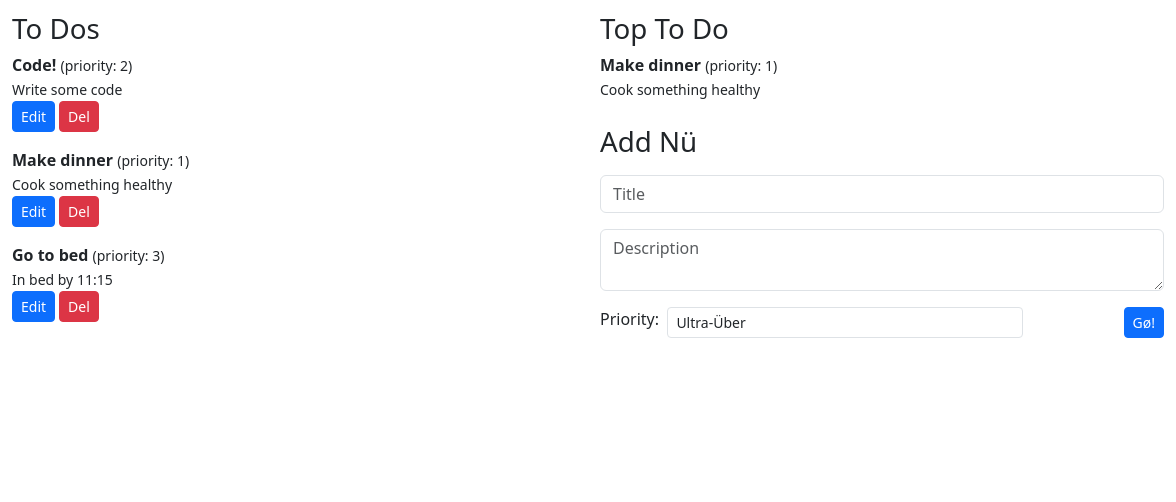
update a todo
Expected: the text "Code!" is shown, [12,54,56,76]
Expected: the text "Write some code" is shown, [12,80,122,99]
Click the button with class "EditableTodo-toggle" below "Write some code" at (34, 117), box [12,101,55,132]
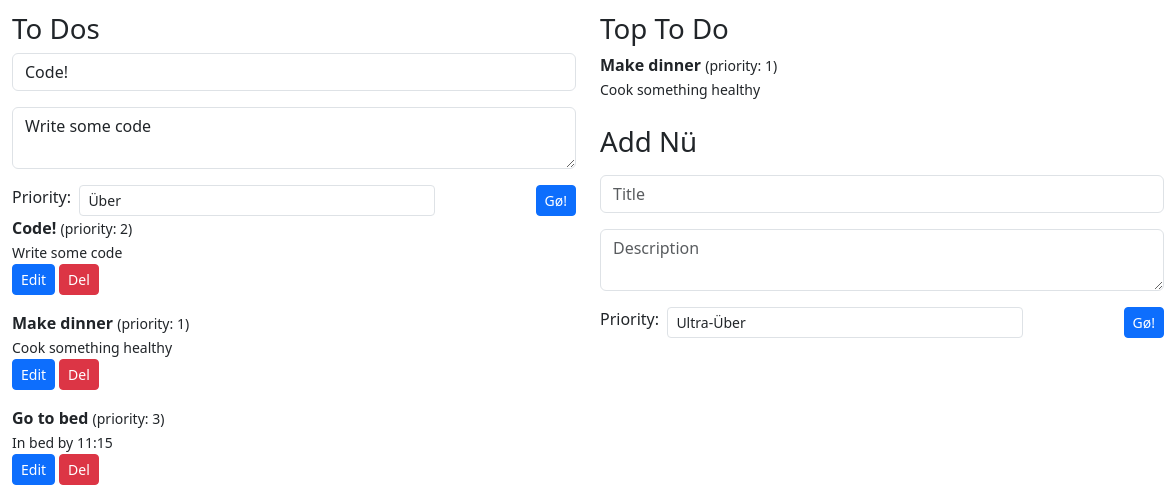
Replace the text in the field with id "newTodo-title" with "get ice cream" at (294, 72), box [12,53,576,91]
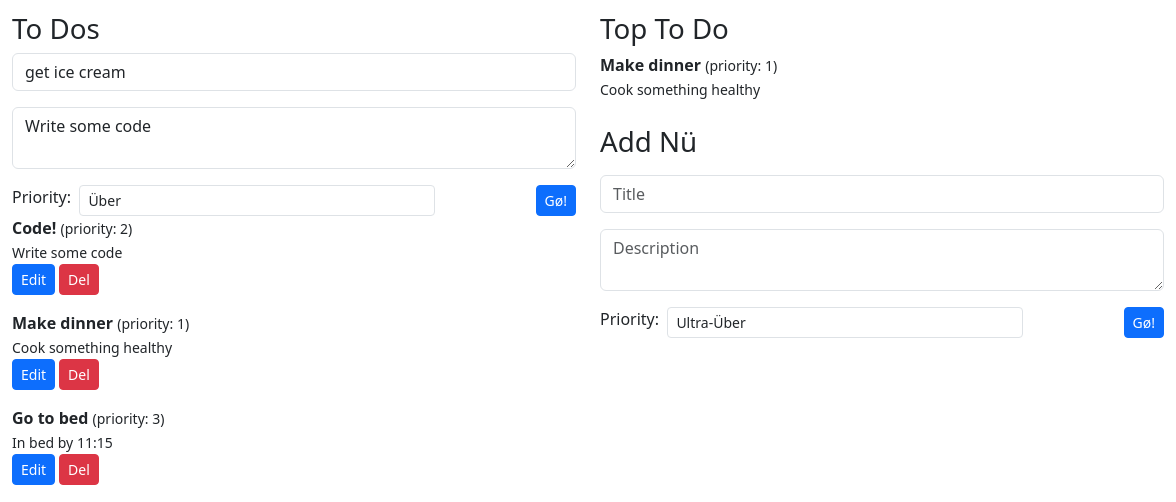
Replace the text in the text box with id "newTodo-description" with "nom nom nom" at (294, 138), box [12,107,576,169]
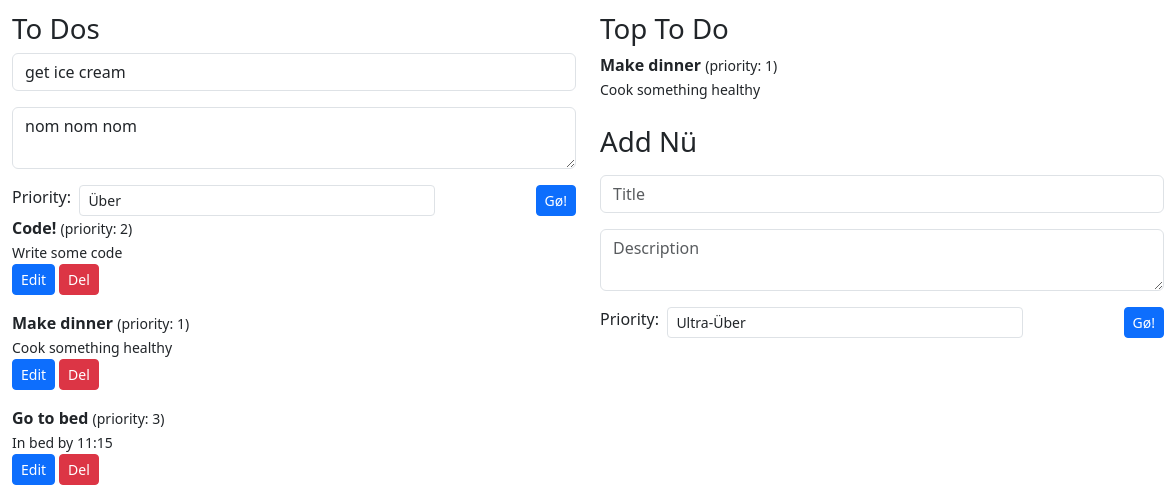
Submit the form from the 1st button with class "NewTodoForm-addBtn", box [536,185,576,216]
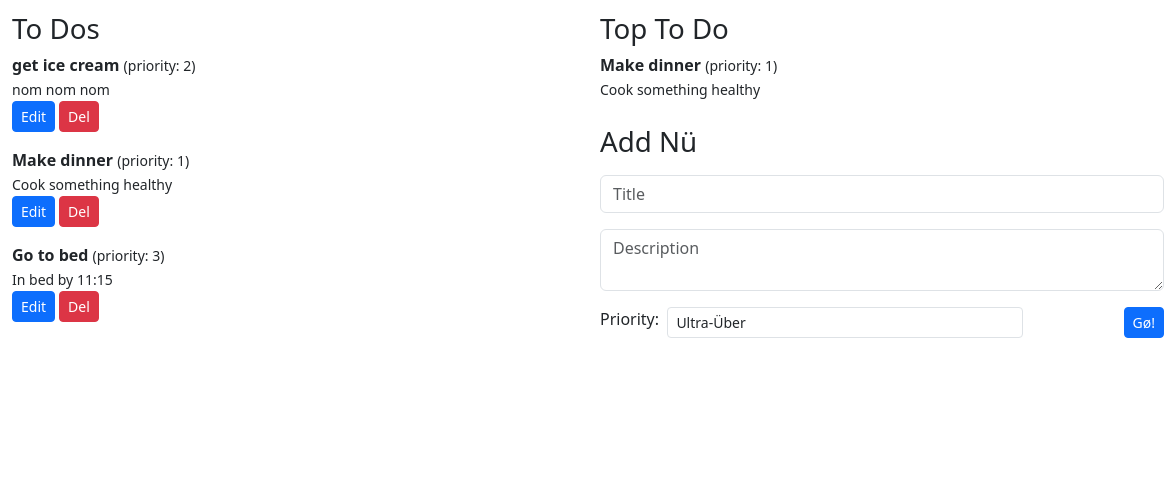
Now the text "Code!" is gone
Now the text "Write some code" is gone
Now the text "get ice cream" is shown, box [12,54,119,76]
